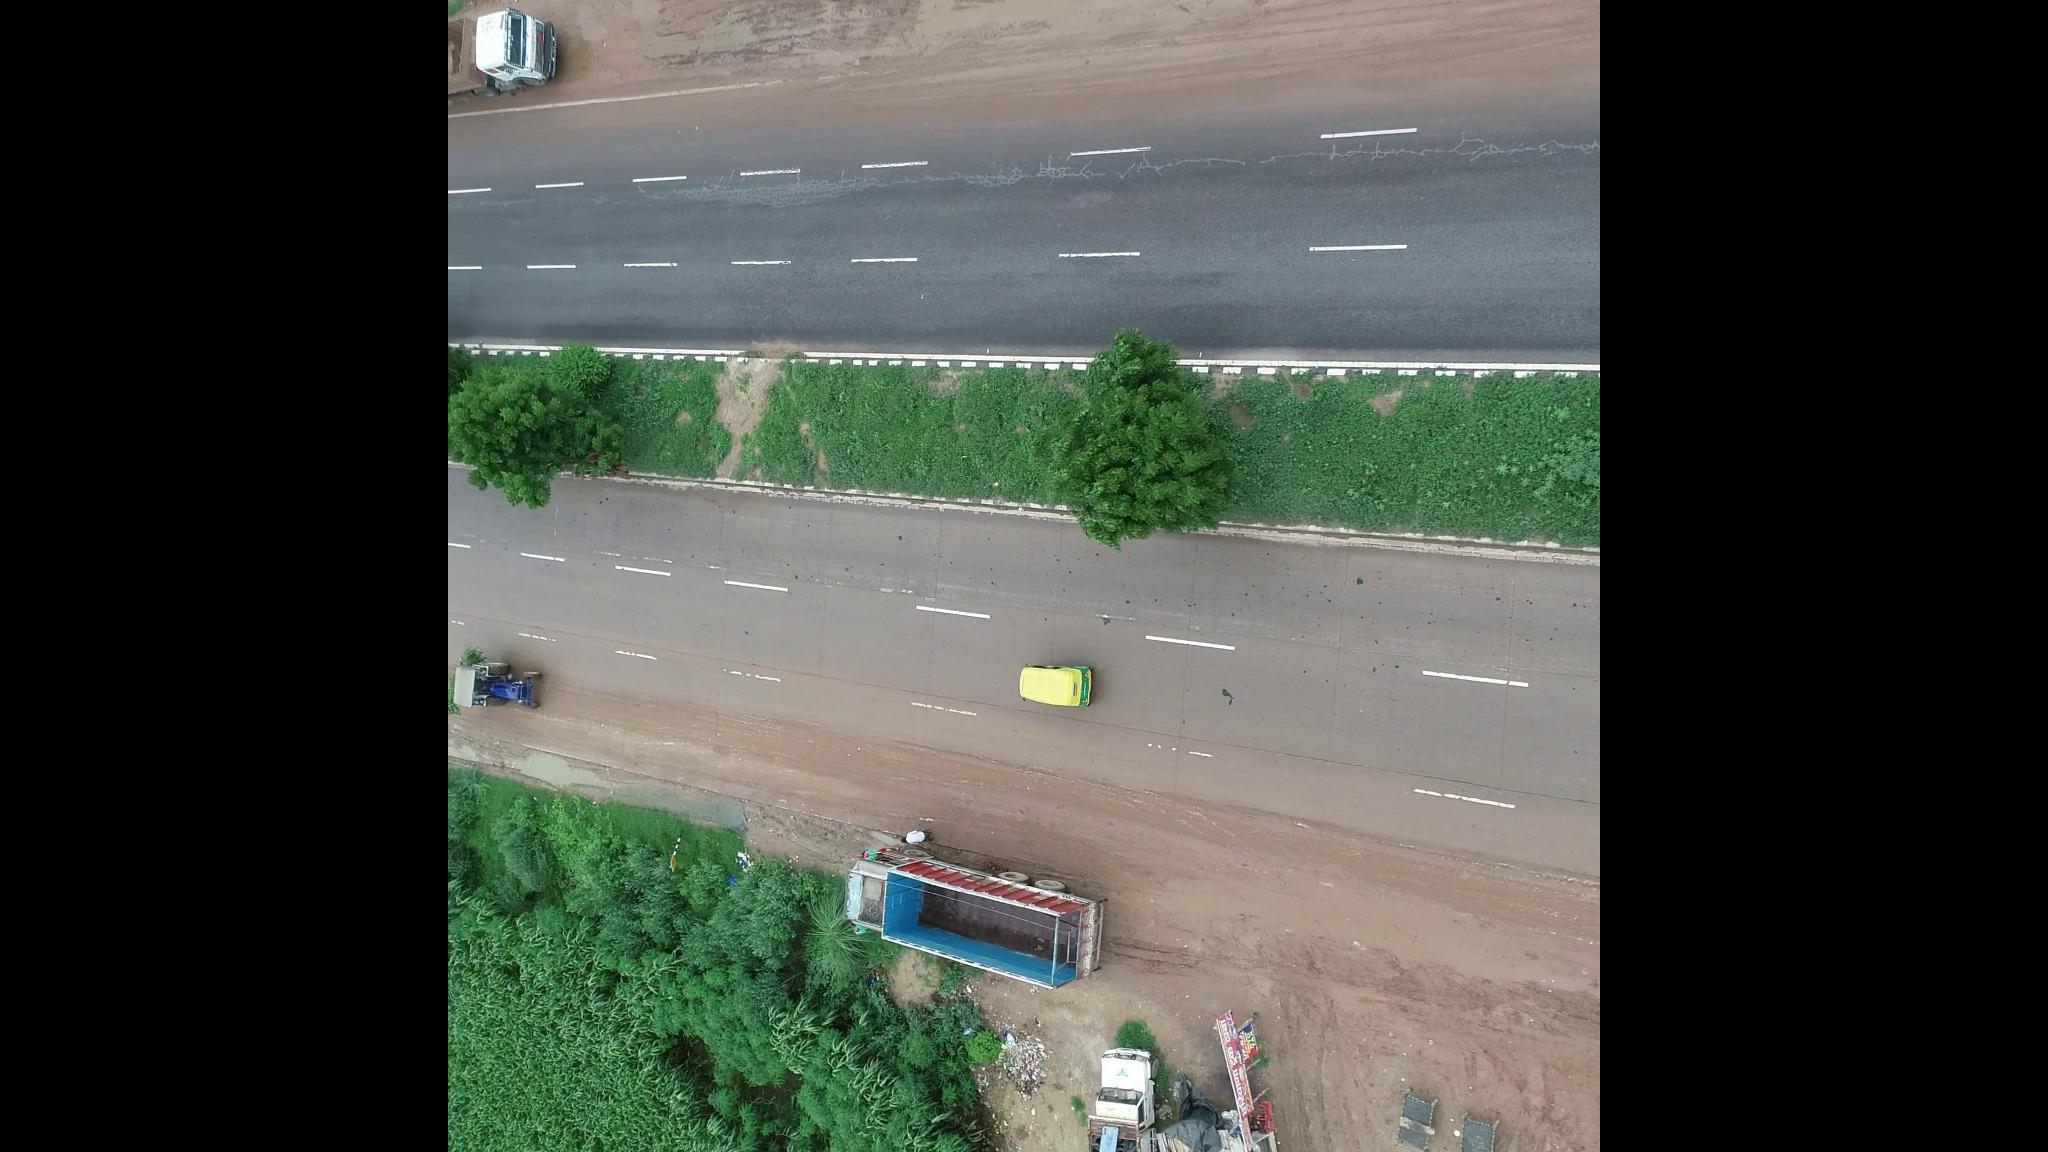Muddy_road: (781, 1, 1201, 127), (1189, 1, 1599, 105), (542, 23, 779, 127)
